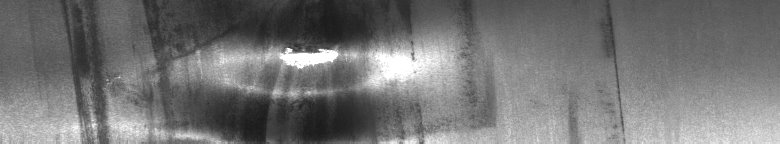ke: (76, 36, 414, 136)
